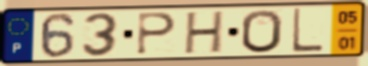3: (80, 11, 122, 58)
6: (39, 12, 77, 60)
H: (182, 9, 226, 56)
L: (290, 7, 326, 55)
O: (240, 8, 285, 55)
P: (134, 11, 179, 57)
